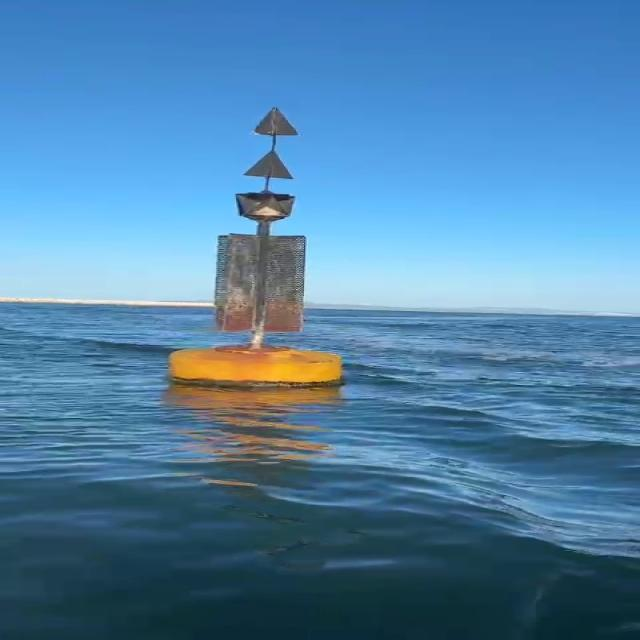marque: (175, 107, 342, 395)
